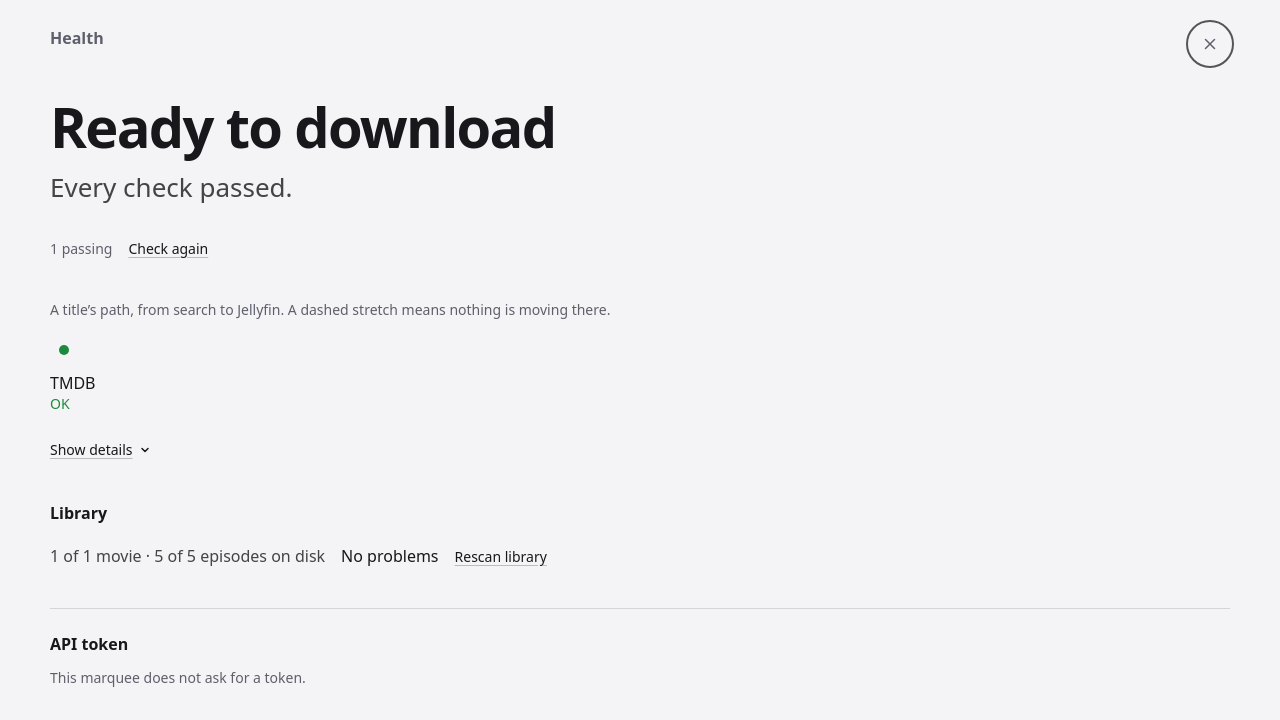
it: a library rescan that adopted titles fetches the wall again
Click the button "Rescan library".
click(501, 556)  # box [454,536,547,576]
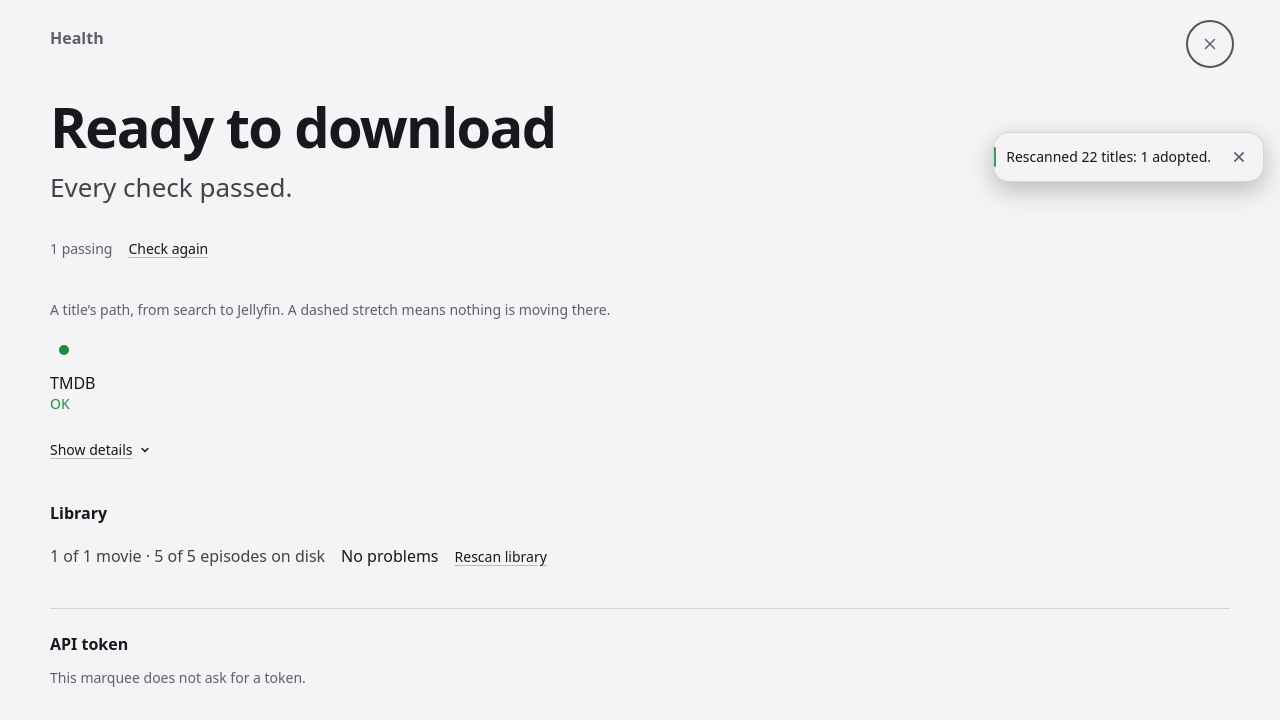
Now the text "Rescanned 22 titles: 1 adopted." is shown, box [1006,147,1211,166]
